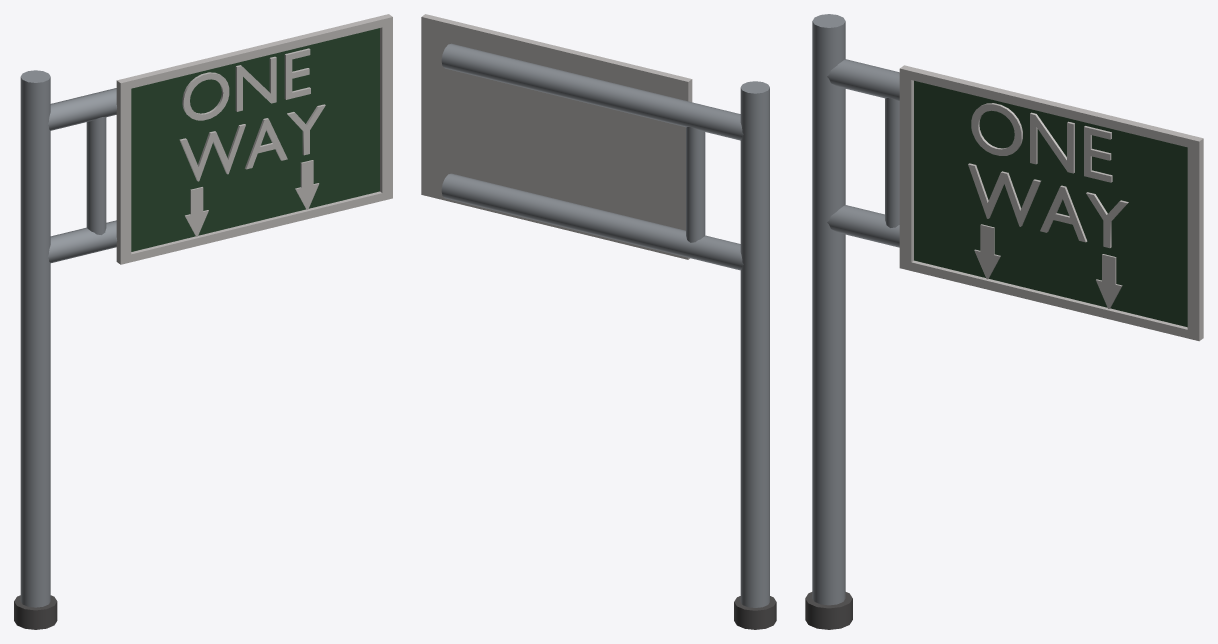
The model's file is TrafficSign_15.fbx.
3 renders of one model, left to right at view 1: azimuth 30°, elevation 25°; view 2: azimuth 150°, elevation 25°; view 3: azimuth 330°, elevation 25°, orthographic. The views are drawn at different scales.
Visible parts, largest first — view 1: TrafficSign_15; view 2: TrafficSign_15; view 3: TrafficSign_15.
Part boxes in pixels (x1,y1,x2,y2): TrafficSign_15: (14,14,392,629); TrafficSign_15: (421,14,776,629); TrafficSign_15: (805,14,1203,629).
Size of the model in its own units: 300 by 427 by 30.77.
